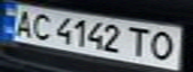1: (69, 17, 87, 48)
2: (103, 21, 127, 55)
4: (51, 15, 75, 46), (84, 19, 106, 52)
A: (9, 7, 39, 38)
C: (27, 11, 57, 42)
O: (145, 28, 184, 62)
T: (124, 25, 154, 58)
